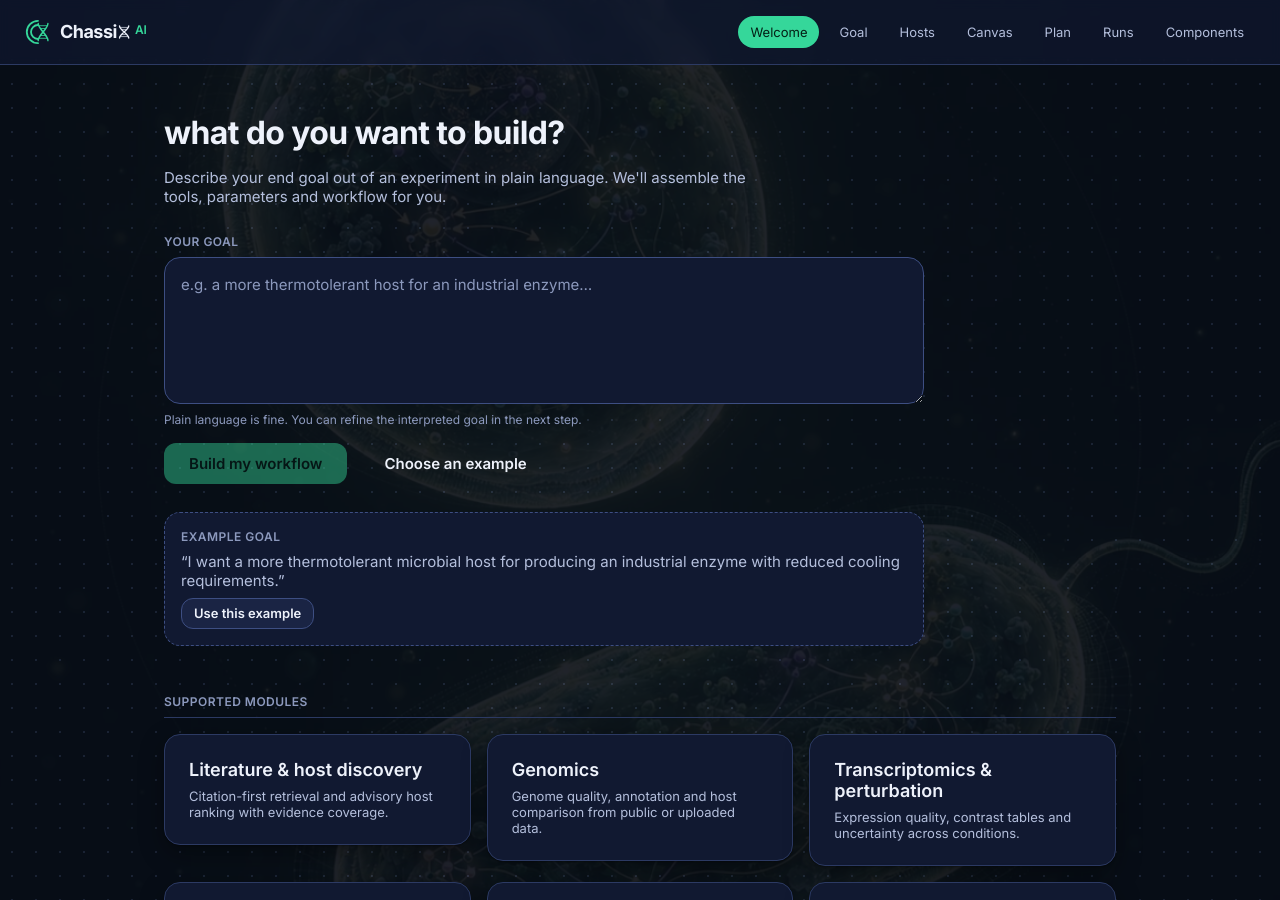
Test: WelcomePage (Screen 1, BF-01) › fills the composer from the example flow
Expected: the text box labelled "Your goal" is empty, [164,257,924,404]
Click the button "Choose an example": x=456, y=463 [359,442,552,484]
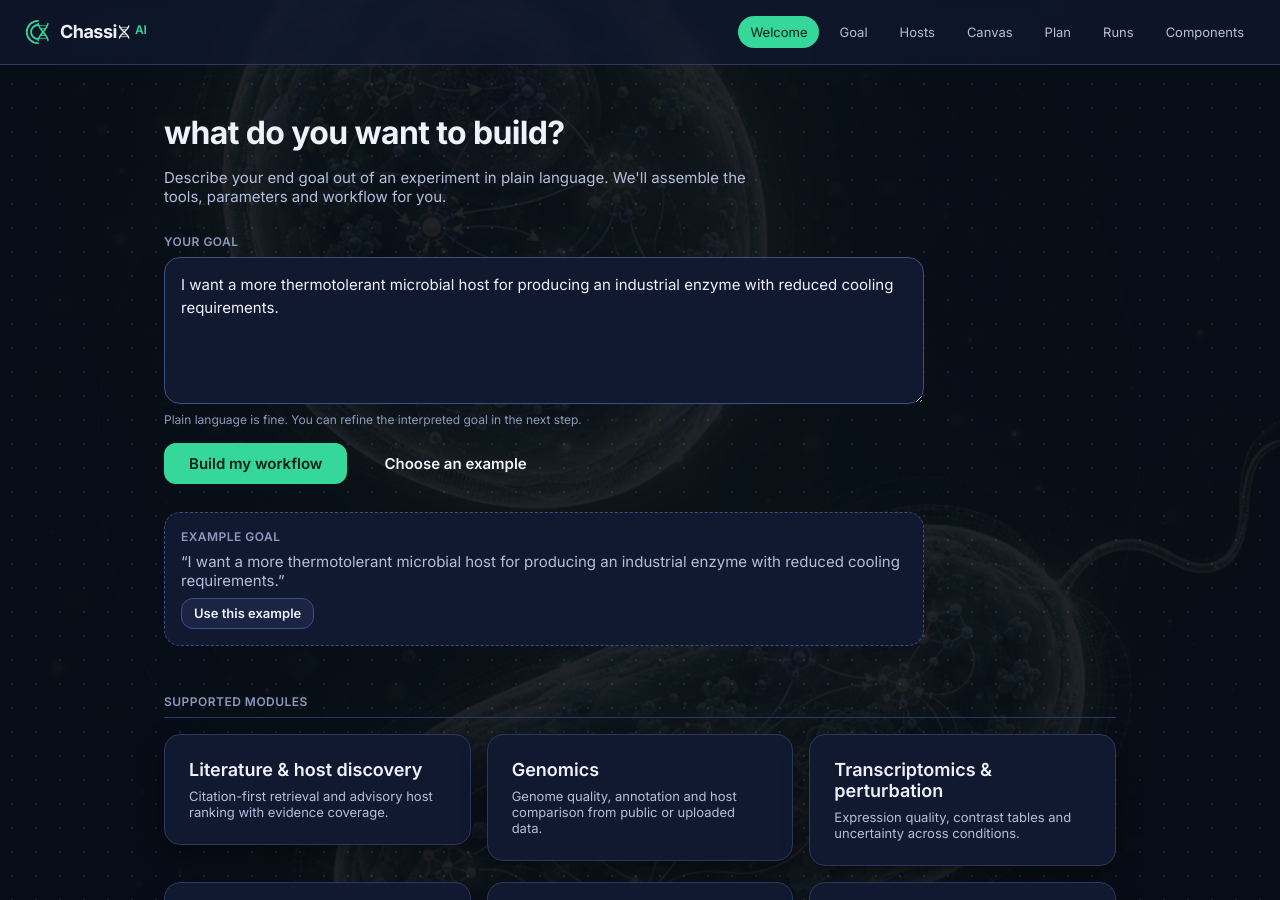
Expected: the text box labelled "Your goal" holds "I want a more thermotolerant microbial host for producing an industrial enzyme with reduced cooling requirements.", [164,257,924,404]
Expected: the button "Build my workflow" is enabled, [164,442,347,484]
